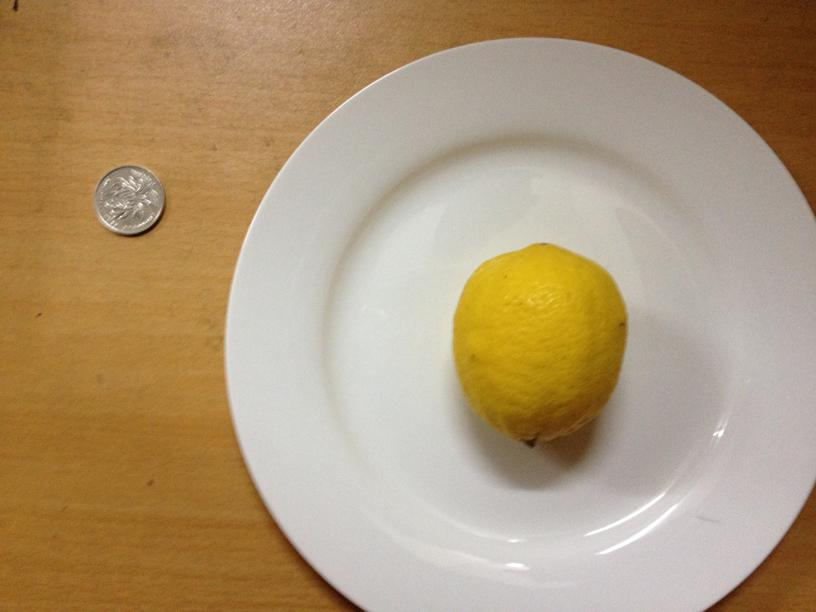coin: (95, 161, 163, 237)
lemon: (457, 237, 627, 442)
